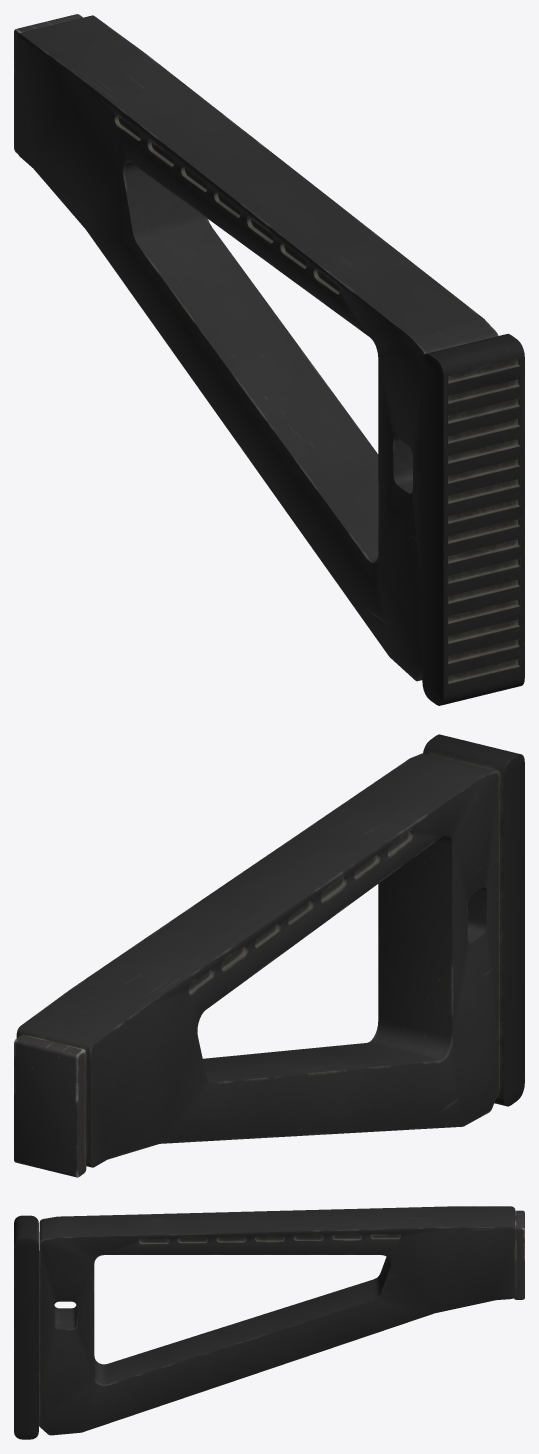
The model's file is coronha_esqueleto_ak_gasto.glb.
The picture shows the model from 3 angles, top to bottom: view 1: azimuth 30°, elevation 25°; view 2: azimuth 150°, elevation 25°; view 3: azimuth 270°, elevation 25°; orthographic projection. The views are drawn at different scales.
Parts seen in each view (by area): view 1: coronha_esqueleto_ak_gasto_coronha; view 2: coronha_esqueleto_ak_gasto_coronha; view 3: coronha_esqueleto_ak_gasto_coronha.
Boxes of the visible parts, left/top/right/bottom form: coronha_esqueleto_ak_gasto_coronha: left=14, top=14, right=524, bottom=705; coronha_esqueleto_ak_gasto_coronha: left=14, top=734, right=524, bottom=1177; coronha_esqueleto_ak_gasto_coronha: left=14, top=1206, right=524, bottom=1439.
Bounding box in the file's own units: 0.034 × 0.145 × 0.318.
Materials: 1 (1 with a texture image).
